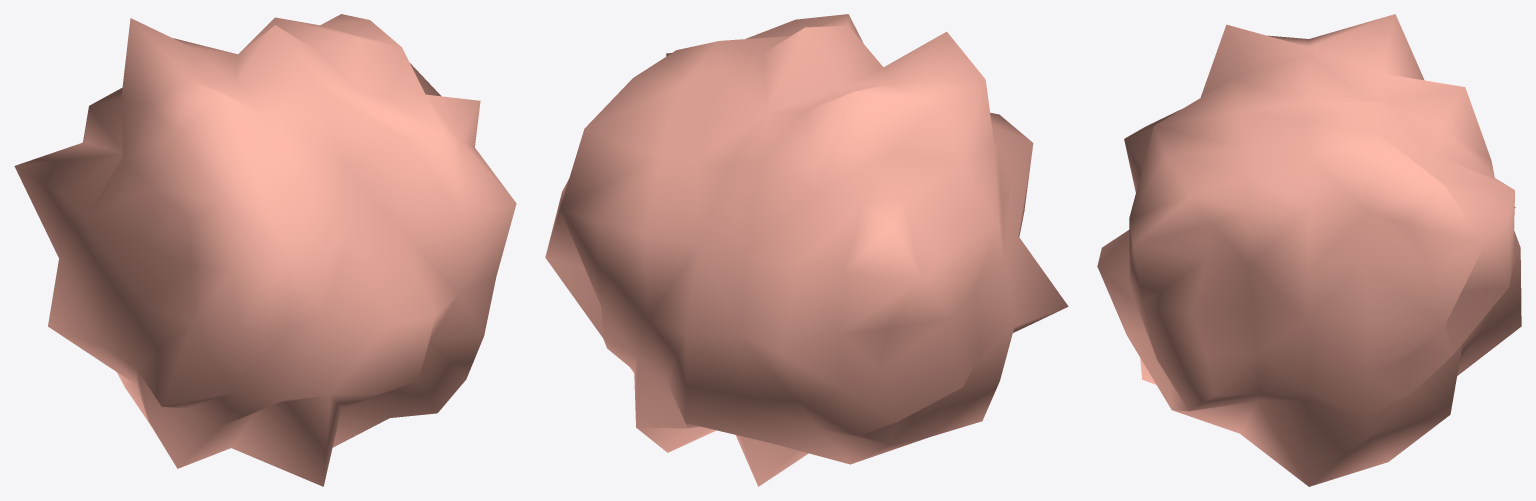
Rendered from embryo.glb.
The picture shows the model from 3 angles, left to right: view 1: azimuth 30°, elevation 25°; view 2: azimuth 150°, elevation 25°; view 3: azimuth 270°, elevation 25°; orthographic projection. The views are drawn at different scales.
Visible parts, largest first — view 1: Syncytiotrophoblast; view 2: Syncytiotrophoblast; view 3: Syncytiotrophoblast.
Boxes of the visible parts, <box> form: Syncytiotrophoblast: <box>14,14,516,486</box>; Syncytiotrophoblast: <box>545,14,1068,486</box>; Syncytiotrophoblast: <box>1097,14,1521,486</box>.
Bounding box in the file's own units: 6.52 × 6.77 × 6.88.
